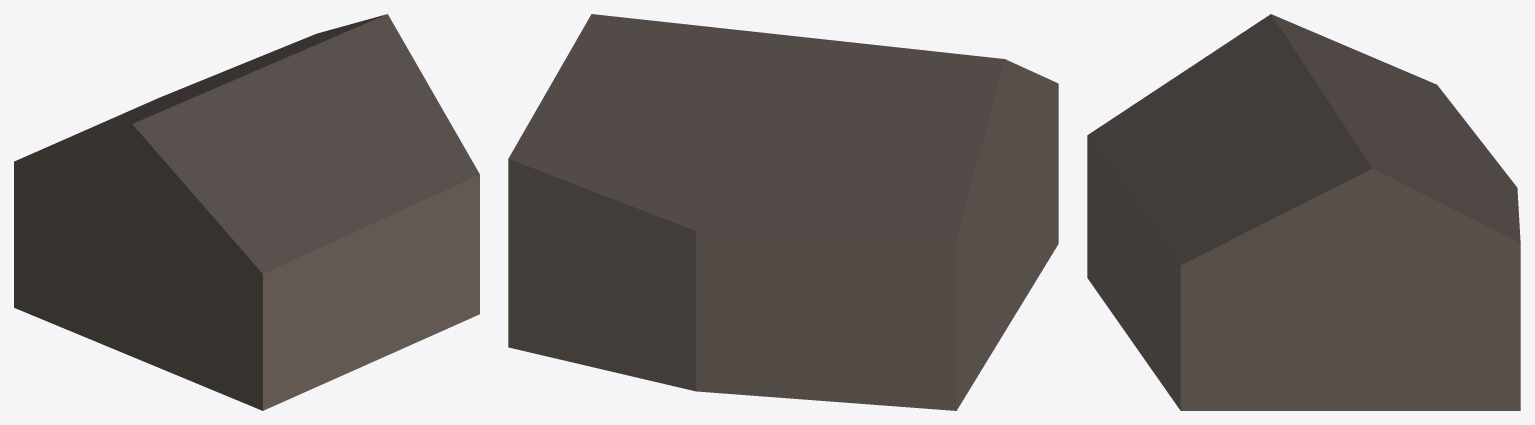
The picture shows the model from 3 angles, left to right: view 1: azimuth 30°, elevation 25°; view 2: azimuth 150°, elevation 25°; view 3: azimuth 270°, elevation 25°; orthographic projection. The views are drawn at different scales.
Parts seen in each view (by area): view 1: HP-w859078896; view 2: HP-w859078896; view 3: HP-w859078896.
Boxes of the visible parts, bbox=[...] form: HP-w859078896: bbox=[14, 14, 479, 410]; HP-w859078896: bbox=[508, 14, 1058, 410]; HP-w859078896: bbox=[1087, 14, 1520, 410].
Bounding box in the file's own units: 15.71 × 10.2 × 16.52.
